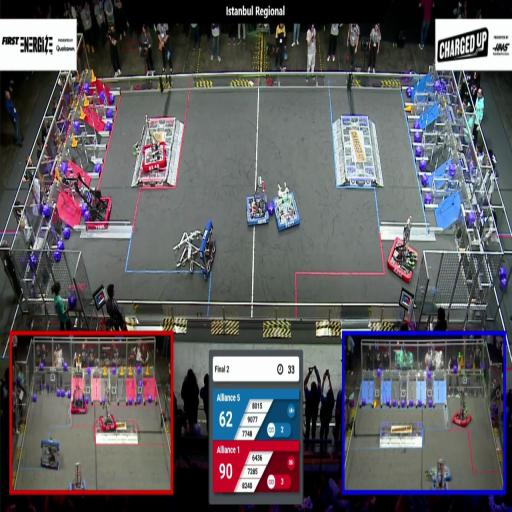robot: (53, 168, 116, 233), (172, 219, 218, 281), (387, 215, 421, 285), (131, 114, 170, 174), (272, 180, 302, 234), (244, 175, 270, 226), (98, 388, 120, 434), (70, 358, 87, 416), (452, 382, 472, 430), (38, 434, 62, 471), (68, 460, 89, 490), (429, 461, 449, 491), (424, 463, 452, 483)
